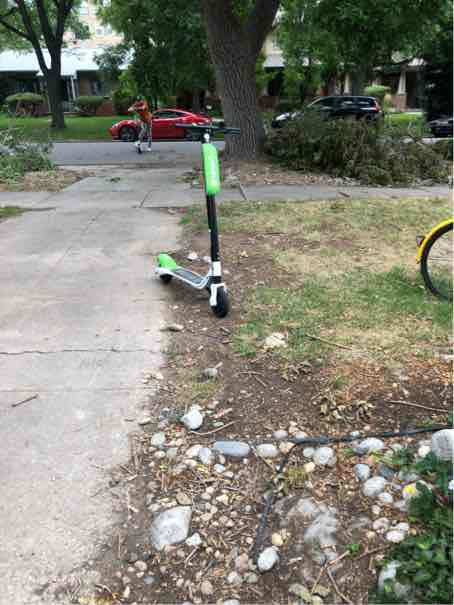scooter: (148, 114, 239, 330)
